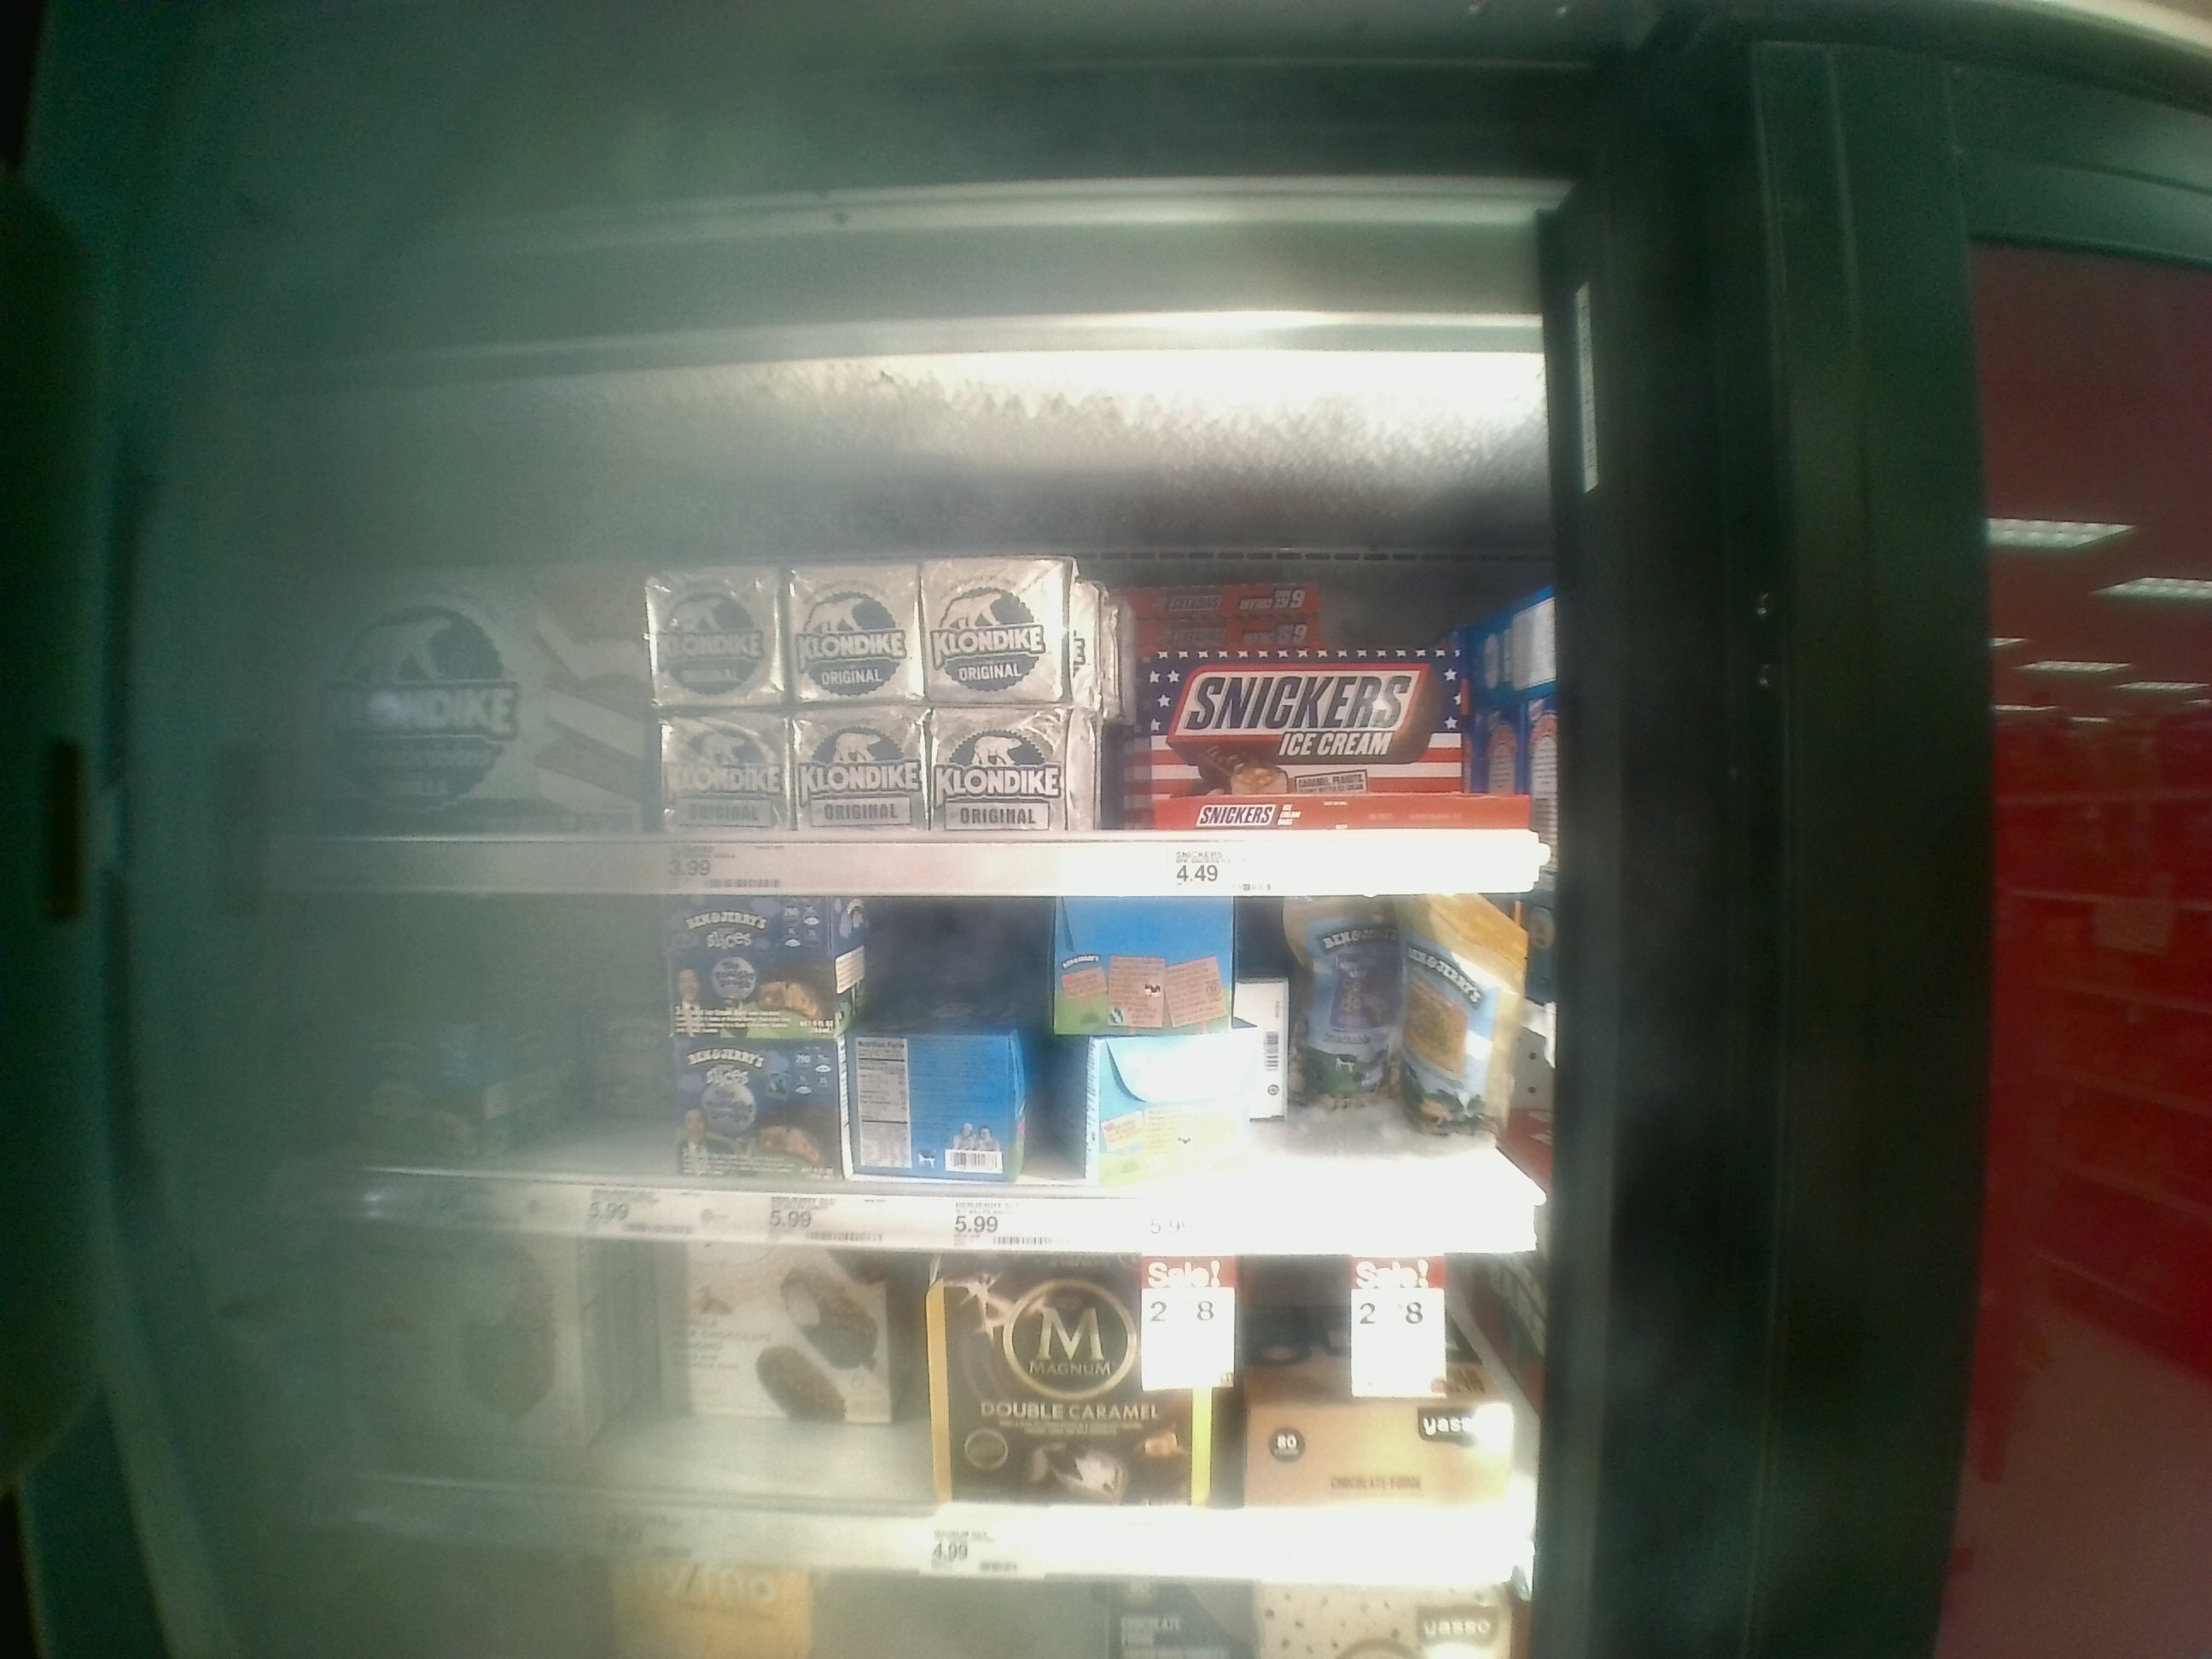shelf: (225, 476, 1555, 892), (226, 911, 1547, 1249)
